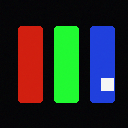1 square: (101, 78, 113, 90)
